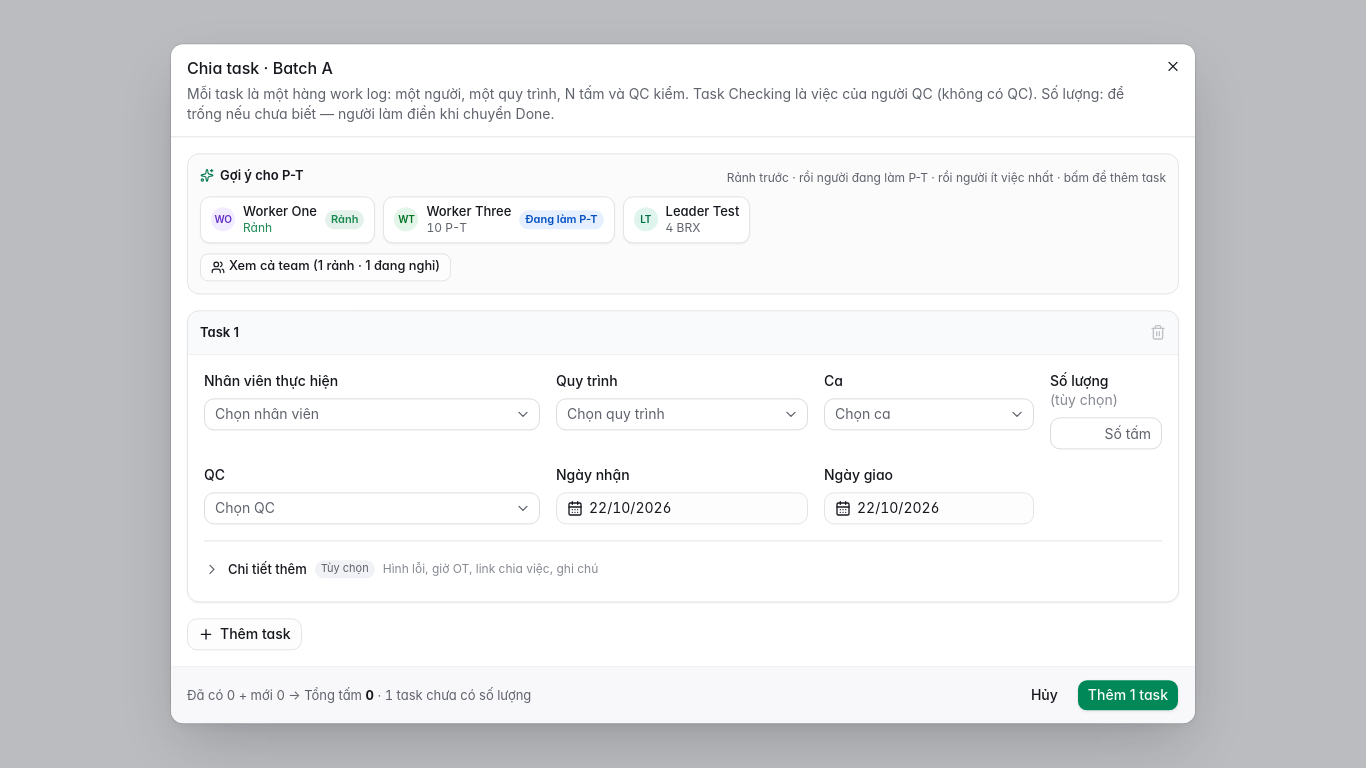
Test case: SplitTasksDialog — team load (PD-080) › “Xem cả team” shows everyone as tiles grouped Rảnh · Đang làm <code> · Khác · Đang nghỉ; the one on leave is not clickable
Click the button "Xem cả team (1 rảnh · 1 đang nghỉ)" at x=326, y=267, box [200,253,451,281]
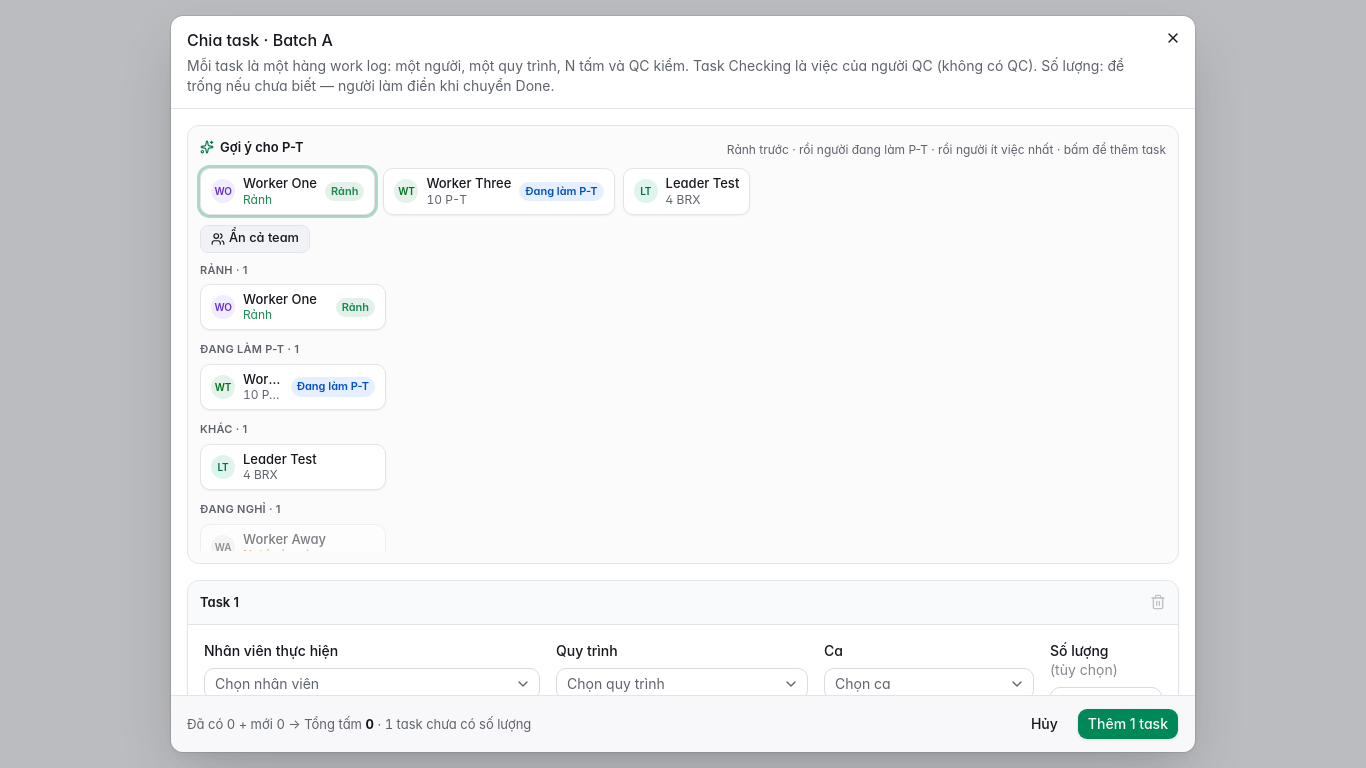
Expected: the button "Ẩn cả team" is shown, [200,224,310,252]
